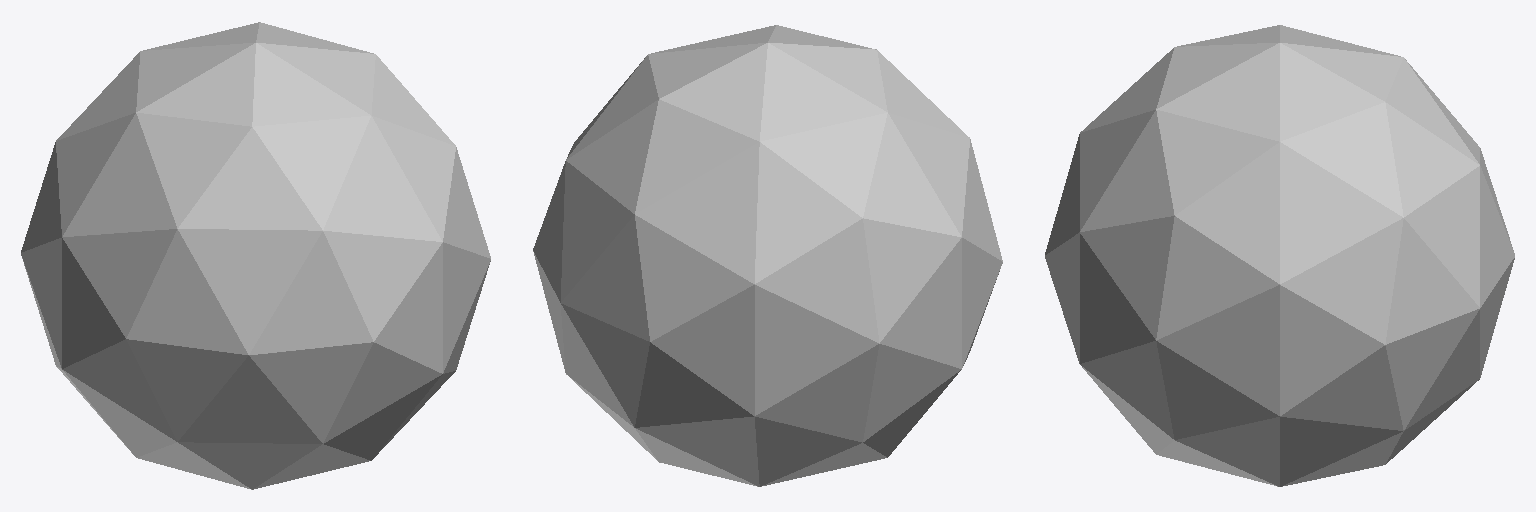
File: ICO.obj
3 views of the same model, side by side, from view 1: azimuth 30°, elevation 25°; view 2: azimuth 150°, elevation 25°; view 3: azimuth 270°, elevation 25° (orthographic).
Visible parts, largest first — view 1: ICO球; view 2: ICO球; view 3: ICO球.
Part boxes in pixels (bbox=[...]): ICO球: bbox=[21, 22, 490, 489]; ICO球: bbox=[533, 25, 1002, 486]; ICO球: bbox=[1045, 25, 1514, 486].
Size of the model in its own units: 1.9 by 2 by 2.